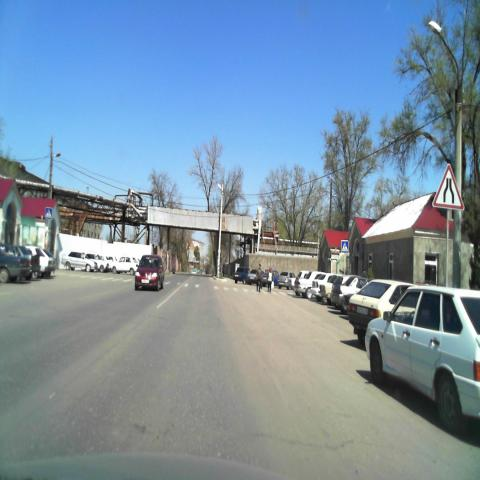1_20: (431, 165, 465, 211)
